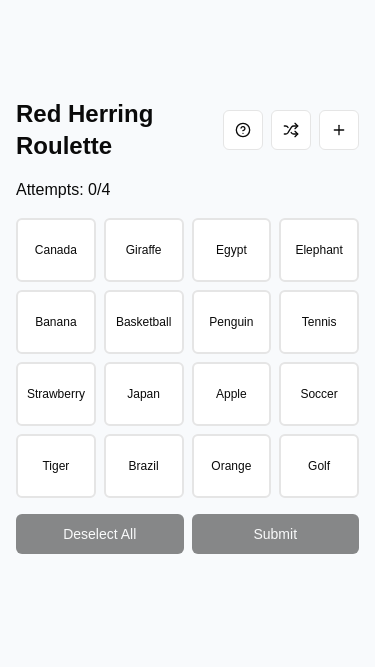
Test: Home Page › Playing the game › should allow solving the "Fruits" category
Click the button "Apple": (232,394) left=192, top=362, right=272, bottom=426
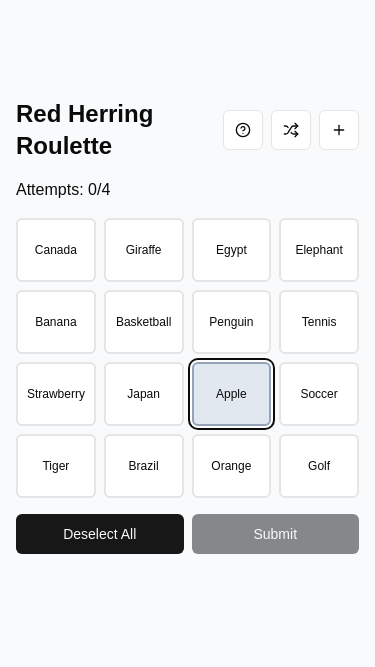
Click the button "Banana": (56,322) left=16, top=290, right=96, bottom=354
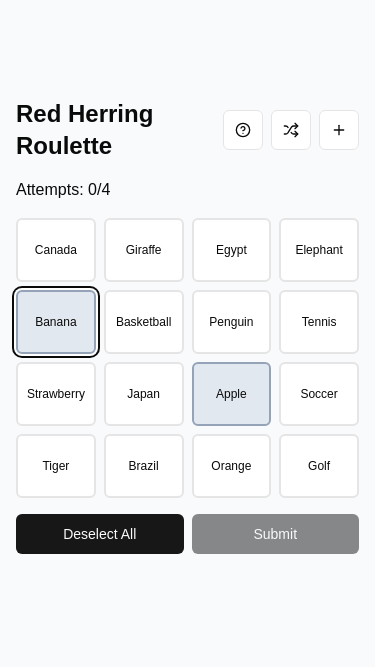
Click the button "Orange": (232,466) left=192, top=434, right=272, bottom=498
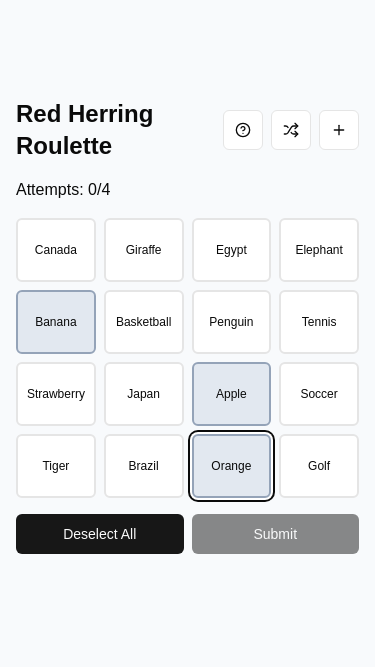
Click the button "Strawberry": (56,394) left=16, top=362, right=96, bottom=426
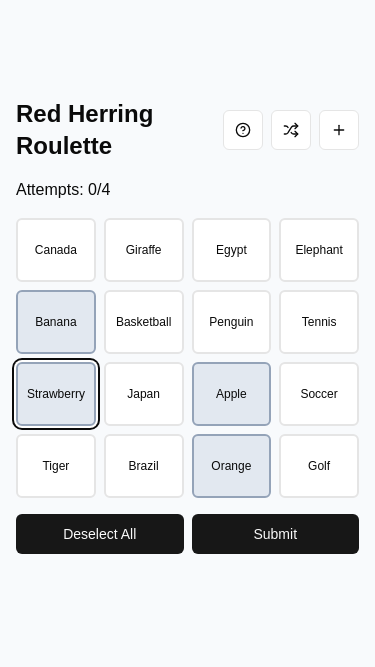
Click the button with test id "submit-button": (276,534) left=192, top=514, right=360, bottom=554
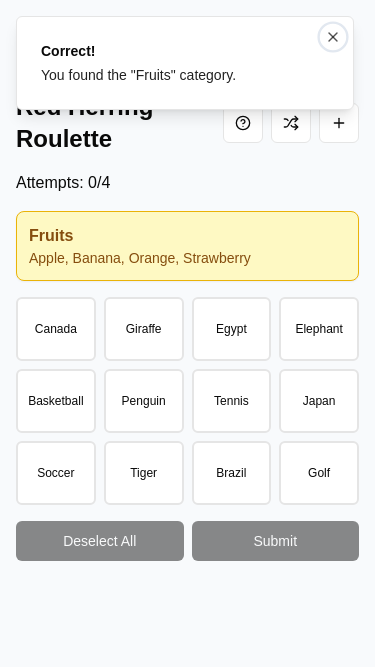
Now the list item with test id "toast" is shown, box left=16, top=16, right=354, bottom=110
Now the text "Correct!" is shown, box left=41, top=43, right=96, bottom=59
Now the element with test id "solved-category" is shown, box left=16, top=211, right=359, bottom=281
